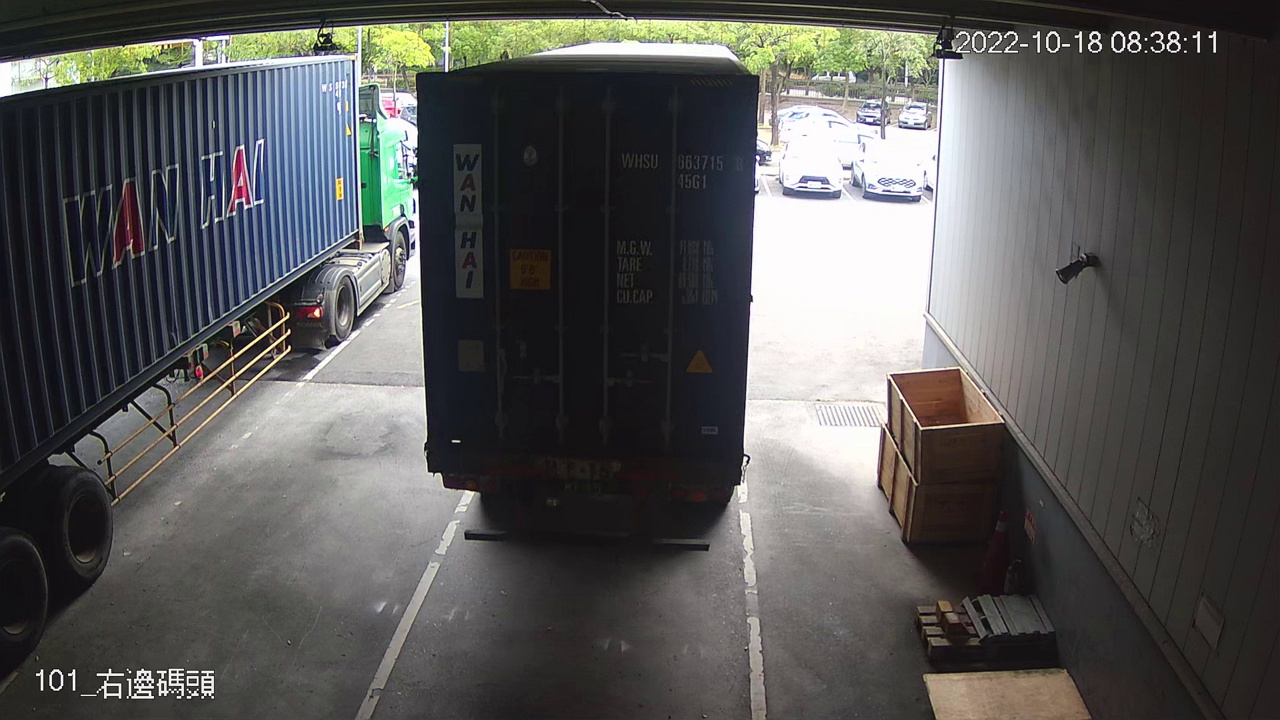container: (616, 146, 748, 194)
